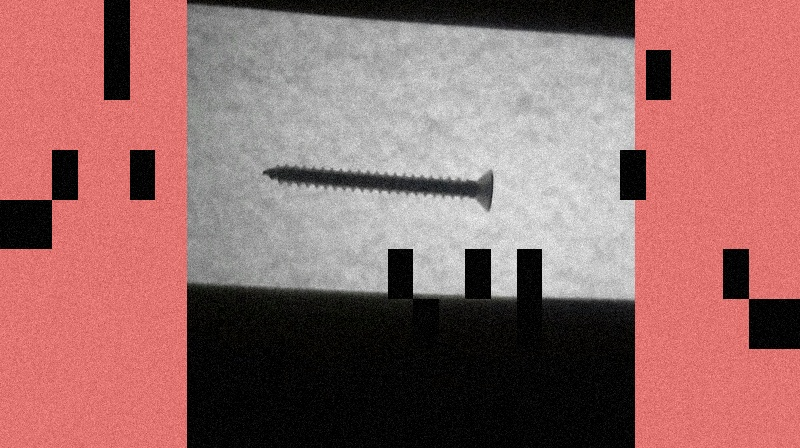S002: (257, 160, 497, 216)
